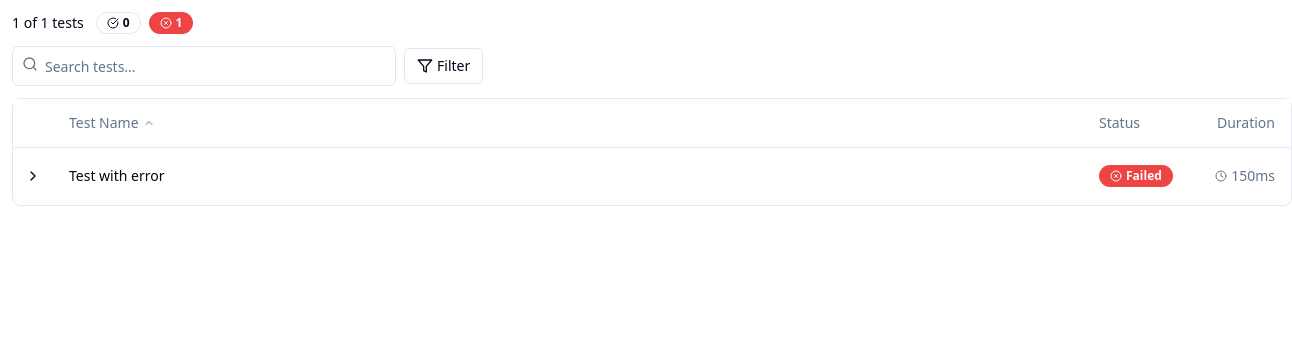
Test: TestResultsTable › Row Expansion › toggles expansion via expand button
Click the 2nd button: click(33, 176) [21,164,45,188]
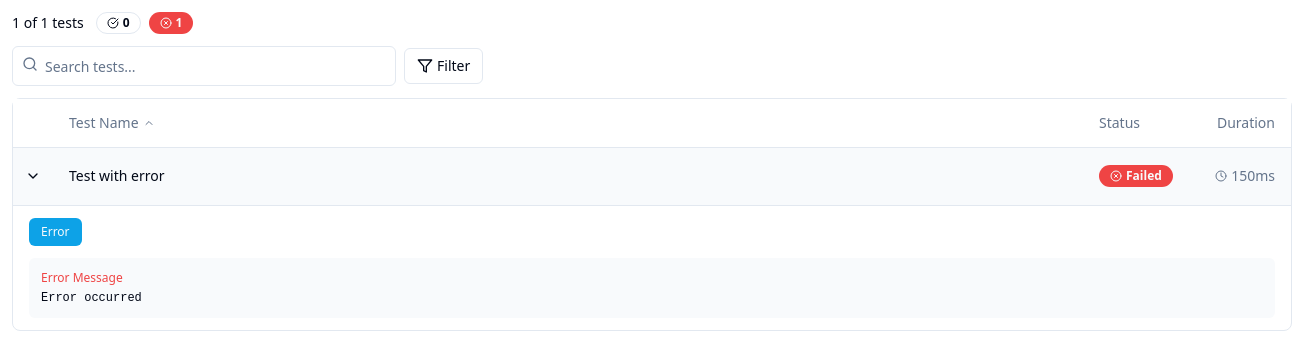
Check: the text "Error occurred" is shown, box [41,290,142,304]
